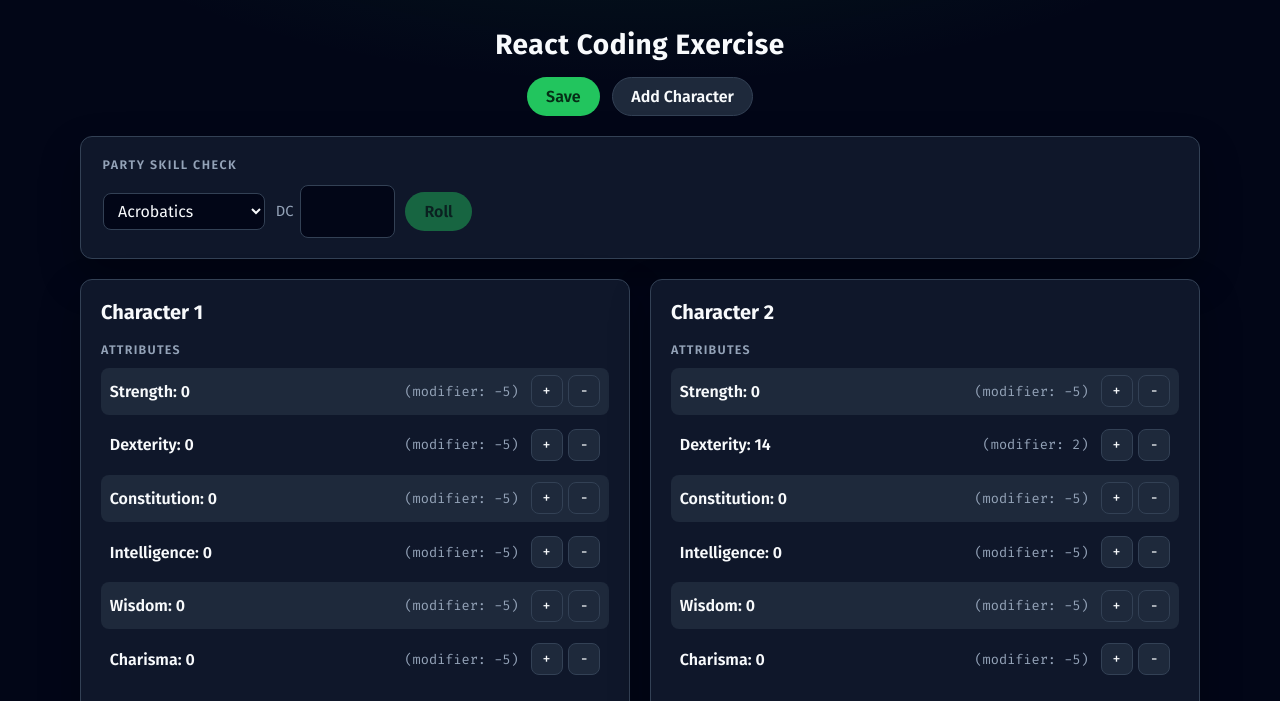
Test case: adds a second character and party-check picks the higher skill total
Check: the heading "Character 2" is shown, box [671,300,774,324]
Type "1" into the number field at (347, 211), box [300,185,395,238]
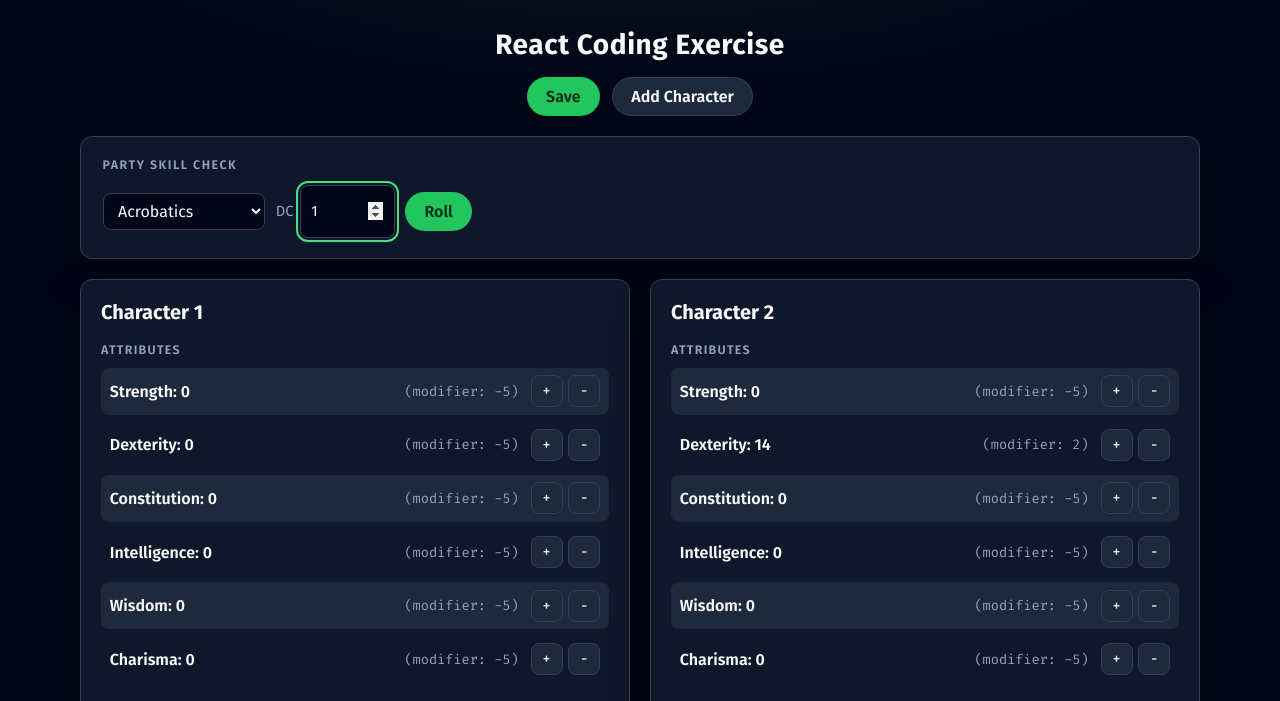
Click the button "Roll" at (439, 211), box [405,192,472,231]
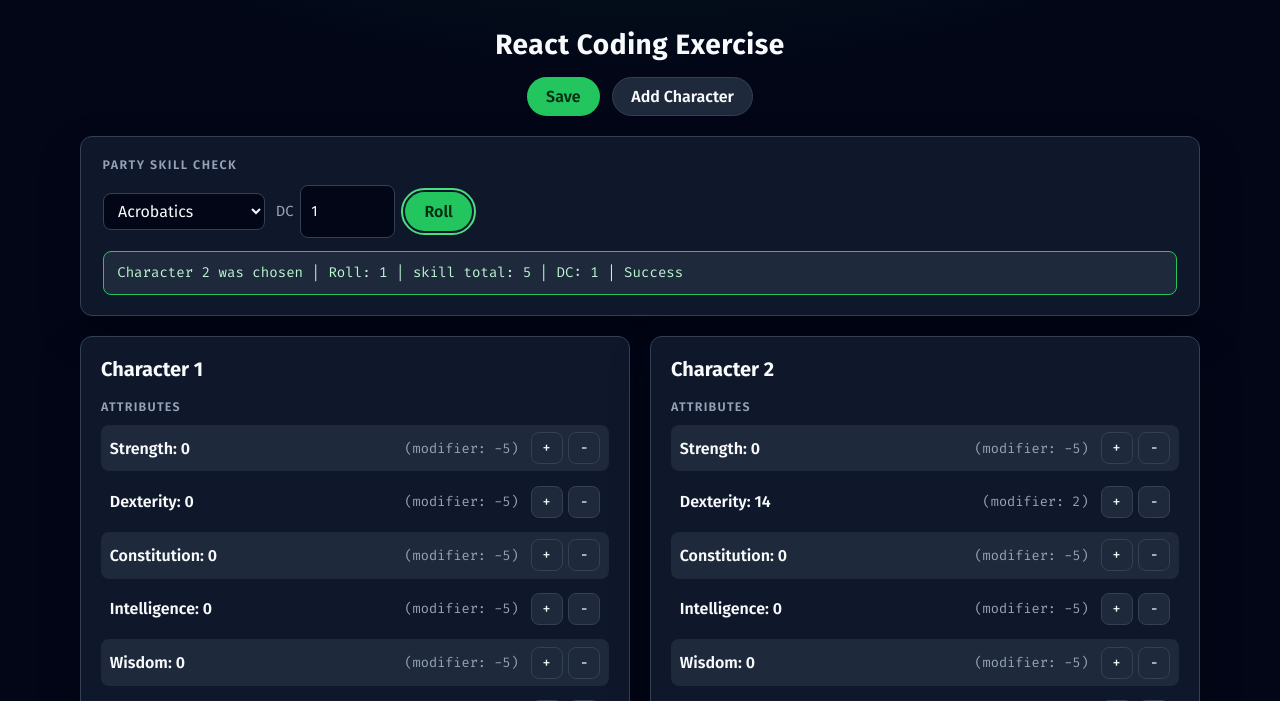
Check: the text "skill total: 5" is shown, box [103,251,1177,295]
